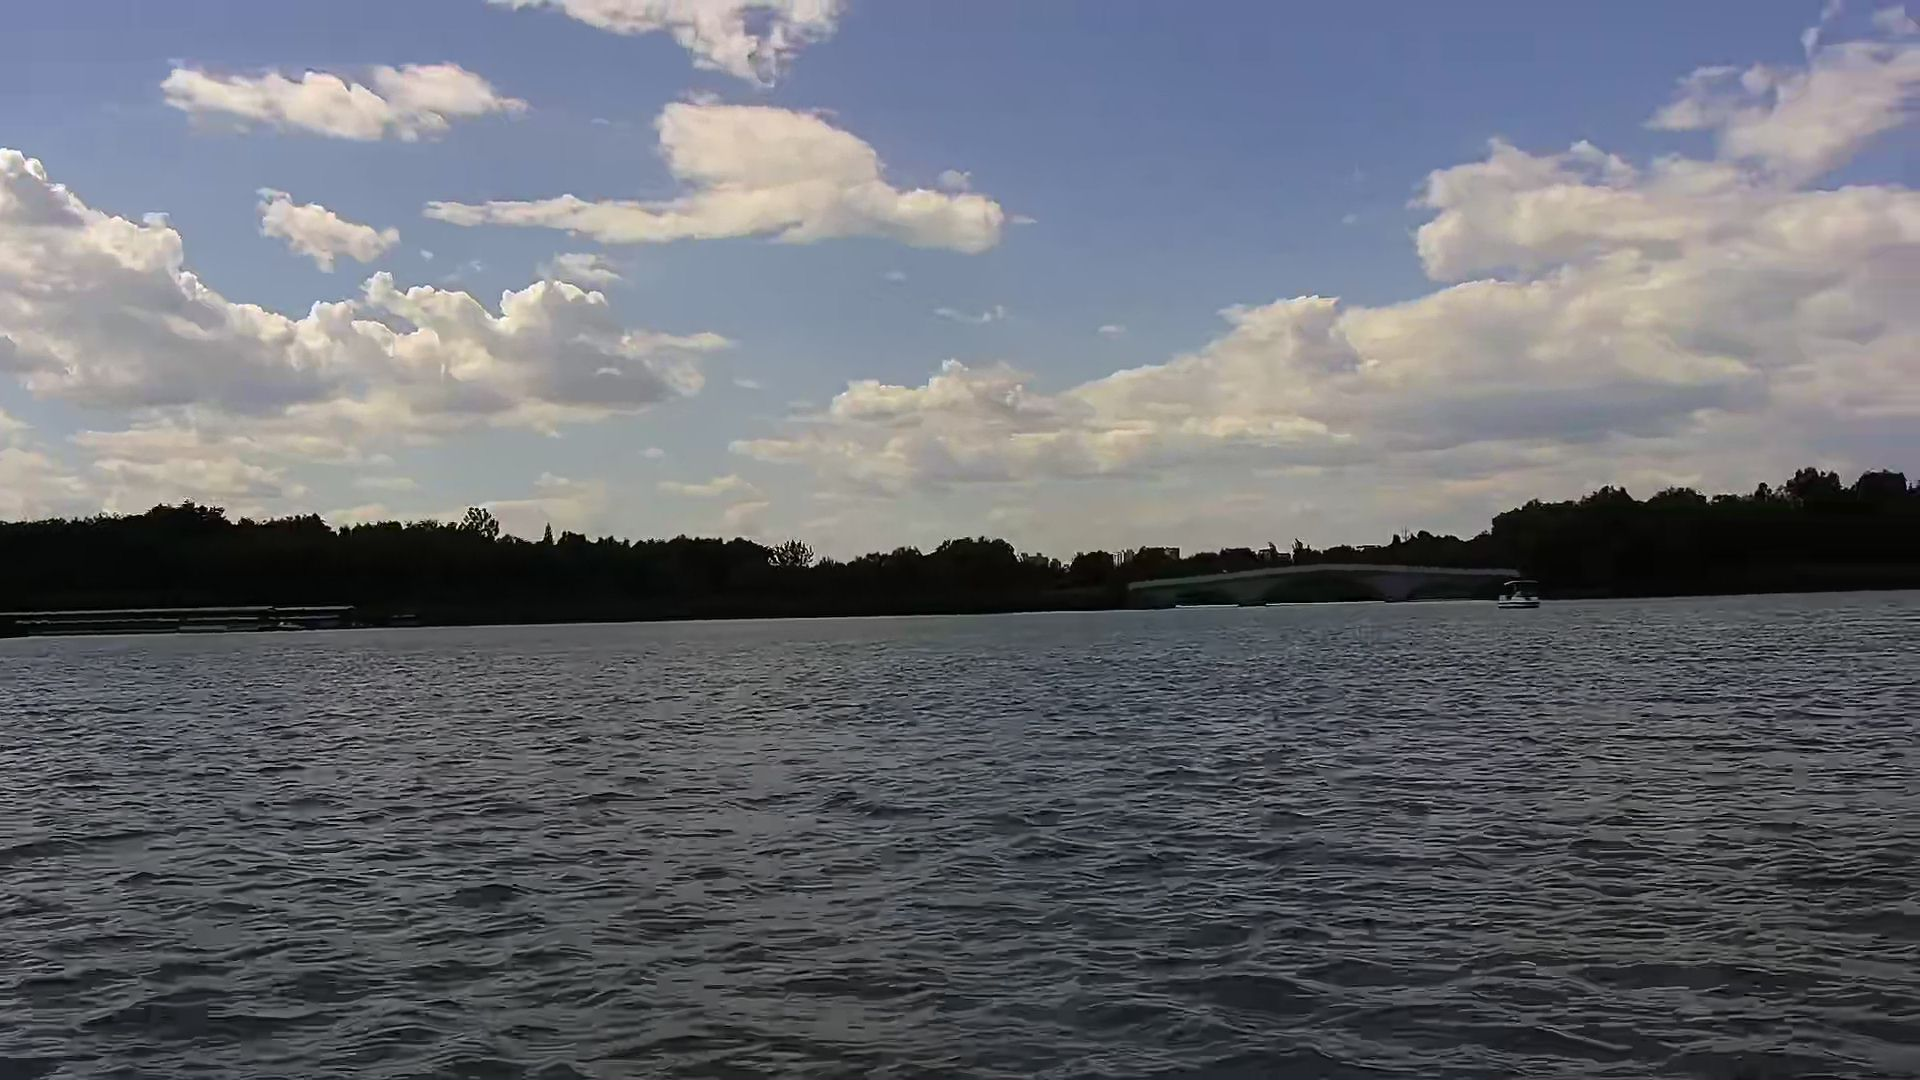boat: (1495, 579, 1545, 613)
bridge: (1131, 567, 1516, 608), (1, 607, 355, 634)
